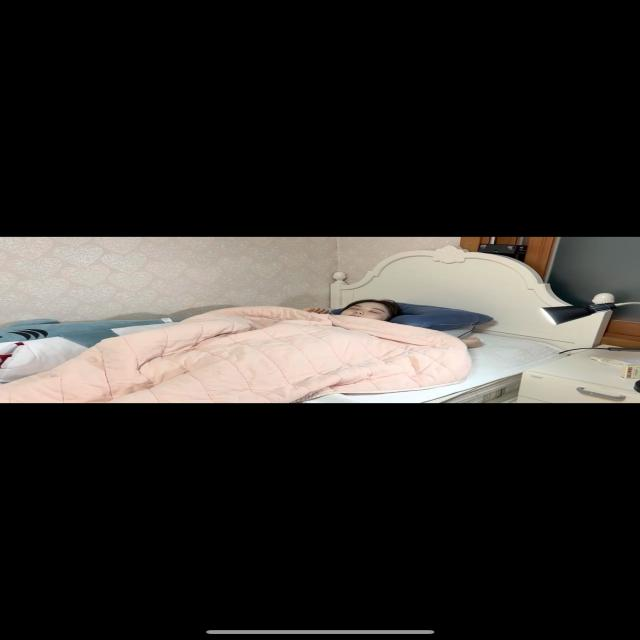sleeping-person: (99, 286, 428, 402)
